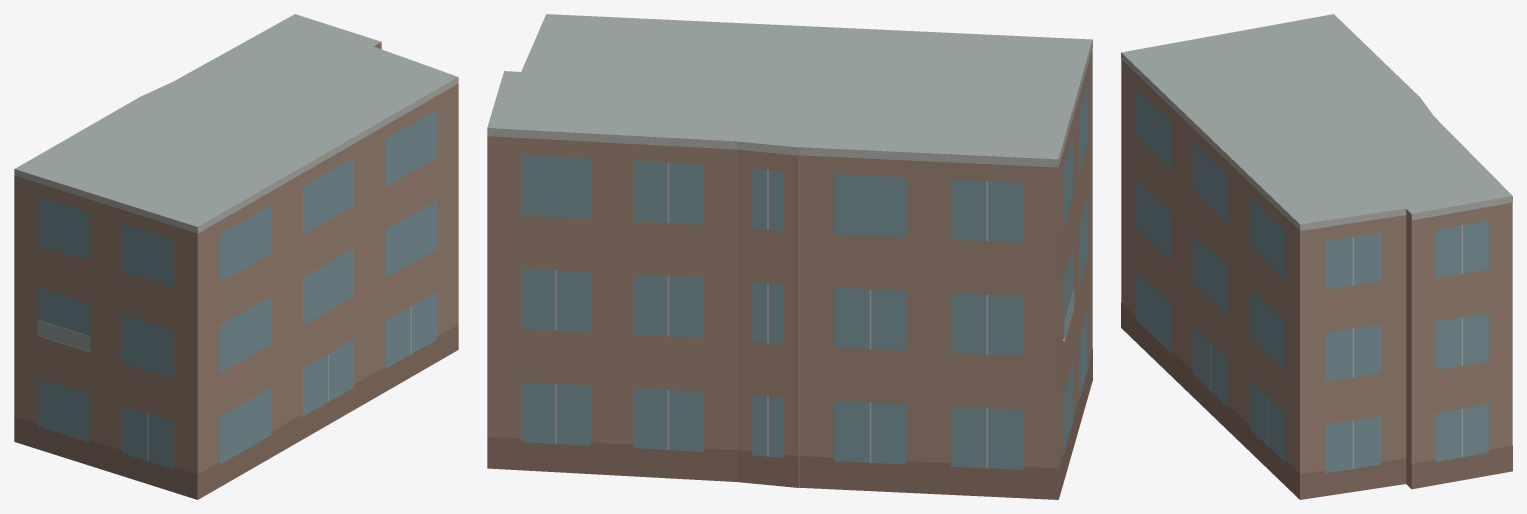
File: survey-upis-32678158.glb
3 views of the same model, side by side, from view 1: azimuth 30°, elevation 25°; view 2: azimuth 150°, elevation 25°; view 3: azimuth 270°, elevation 25° (orthographic). The views are drawn at different scales.
Visible parts, largest first — view 1: survey-upis-32678158.tmp; view 2: survey-upis-32678158.tmp; view 3: survey-upis-32678158.tmp.
Boxes of the visible parts, bbox=[...] form: survey-upis-32678158.tmp: bbox=[14, 14, 458, 499]; survey-upis-32678158.tmp: bbox=[487, 14, 1092, 499]; survey-upis-32678158.tmp: bbox=[1121, 14, 1512, 499].
Size of the model in its own units: 16.73 by 10.2 by 13.16.
